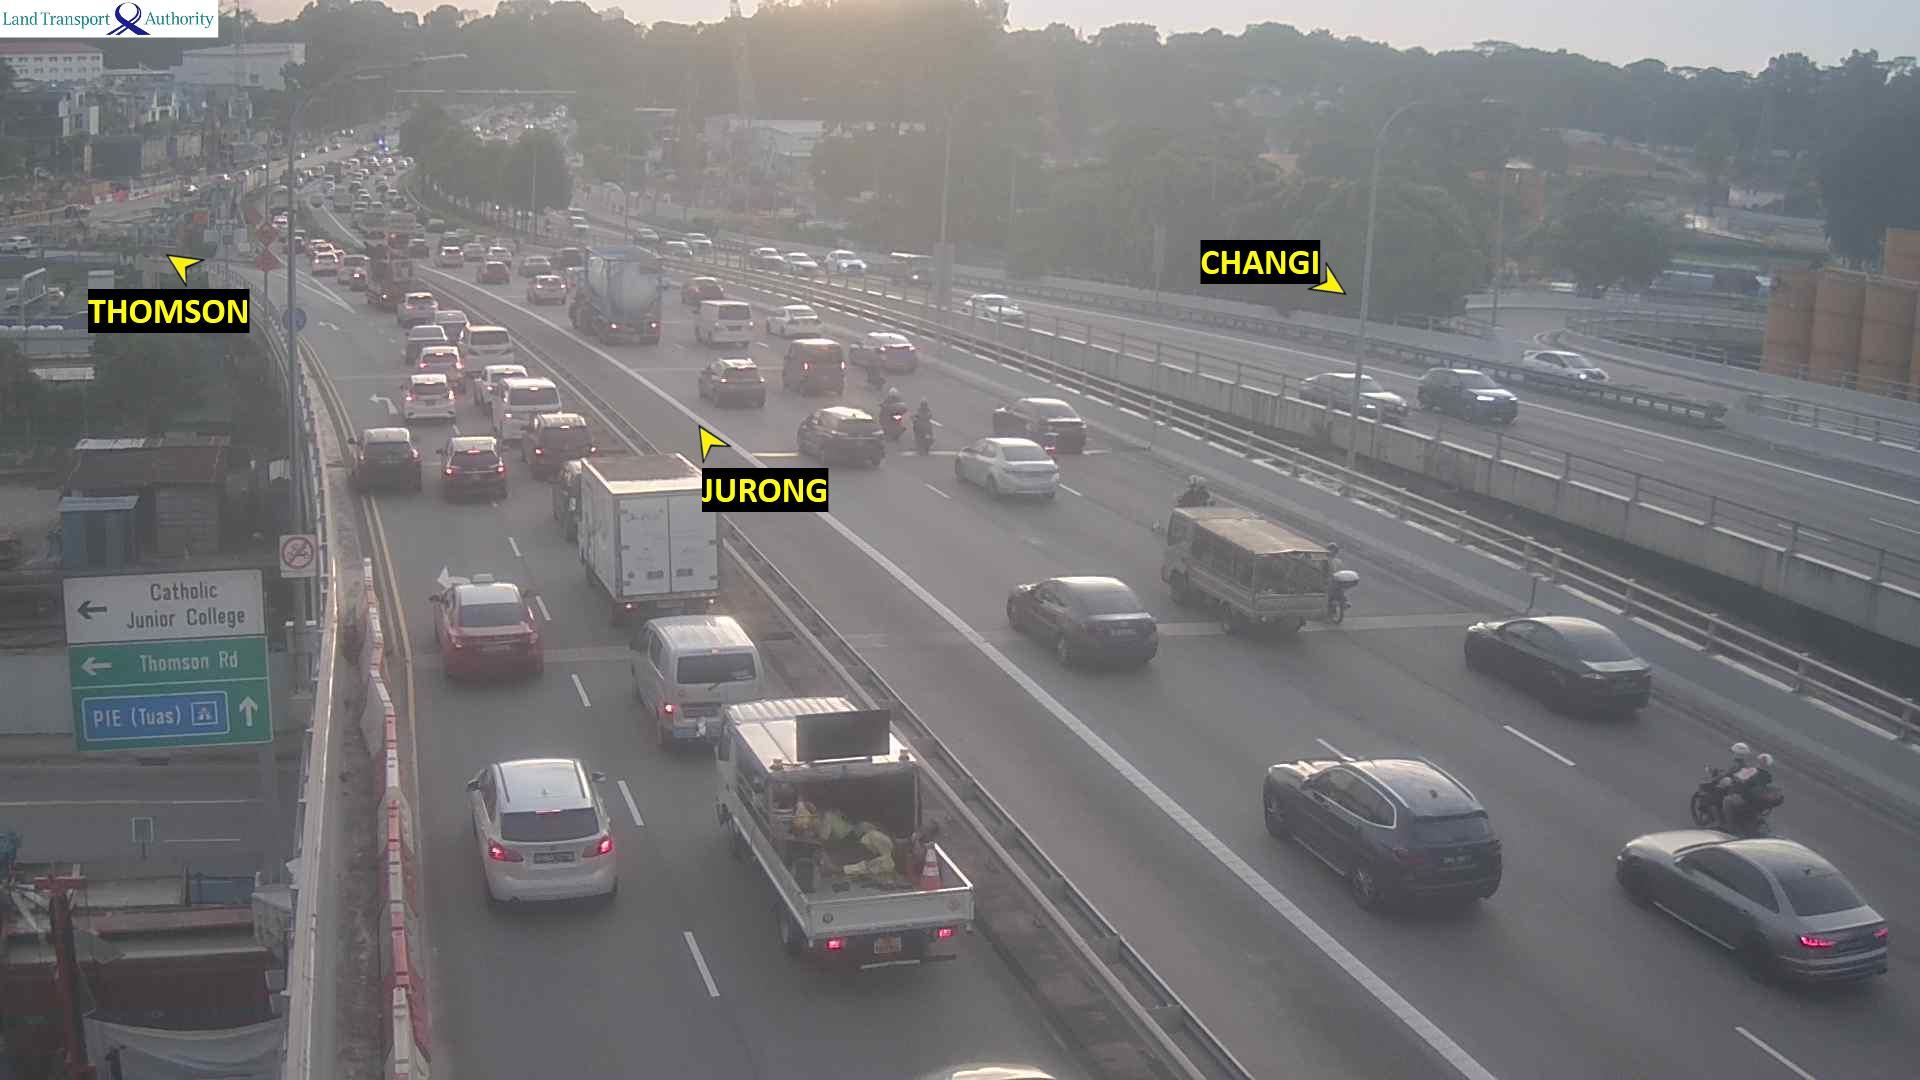incoming: (1458, 372, 1520, 421), (1361, 376, 1410, 422), (1558, 354, 1610, 386), (909, 252, 936, 285), (835, 251, 867, 276)
